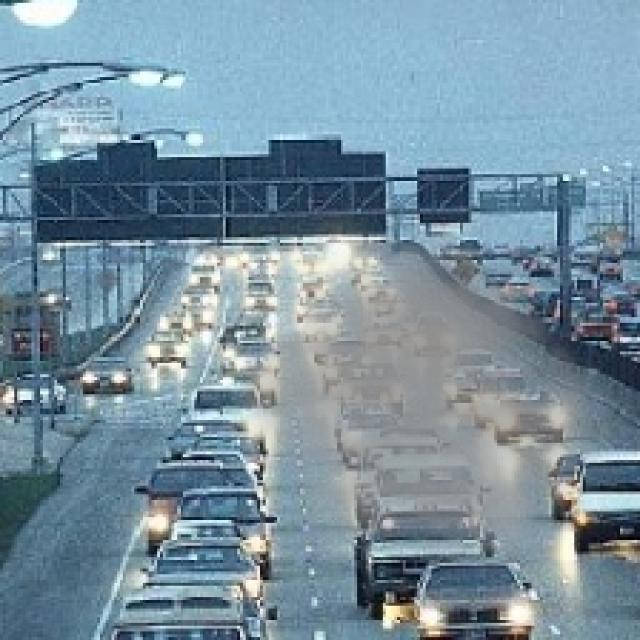smoke: (217, 200, 632, 571)
